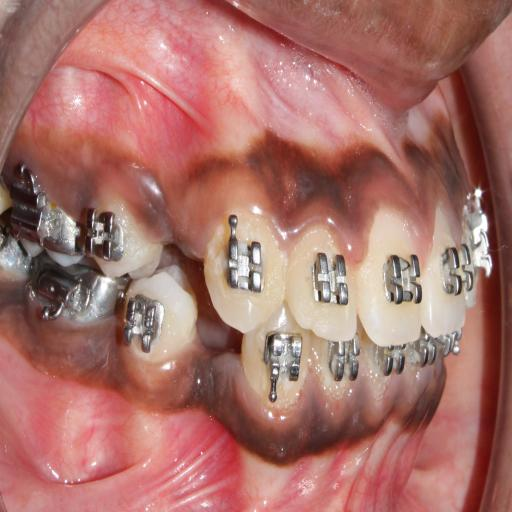correct_brace: (82, 199, 166, 286), (217, 231, 270, 304), (308, 246, 351, 317), (378, 247, 424, 313)
incorrect_brace: (286, 225, 360, 346), (82, 212, 128, 264)
